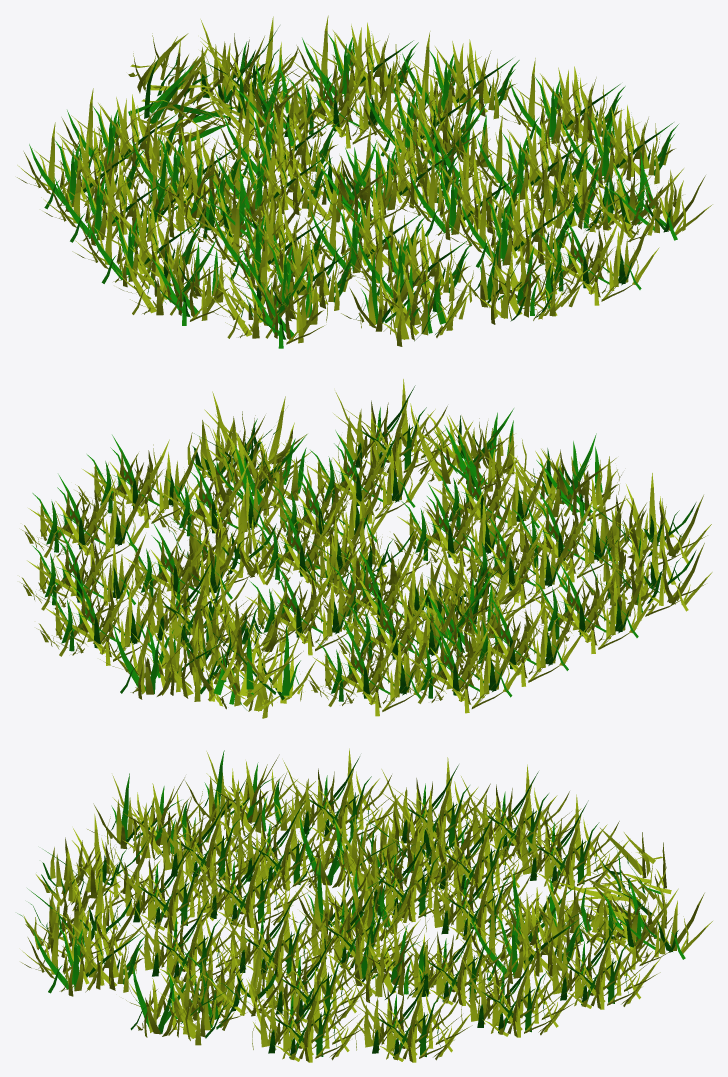
File: Grass_patch_v003.fbx
3 views of the same model, one above another, from view 1: azimuth 30°, elevation 25°; view 2: azimuth 150°, elevation 25°; view 3: azimuth 270°, elevation 25° (orthographic). The views are drawn at different scales.
Visible parts, largest first — view 1: Plane759; view 2: Plane759; view 3: Plane759.
Boxes of the visible parts, x1=… form: Plane759: x1=17, y1=15, x2=712, y2=348; Plane759: x1=19, y1=379, x2=712, y2=718; Plane759: x1=17, y1=748, x2=712, y2=1062.
Bounding box in the file's own units: 0.9463 × 0.1639 × 1.
